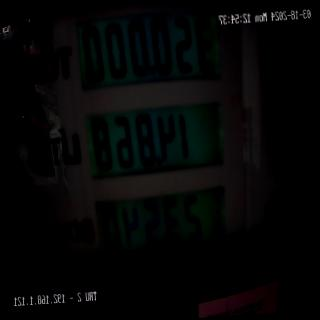screen: (70, 0, 239, 283)
